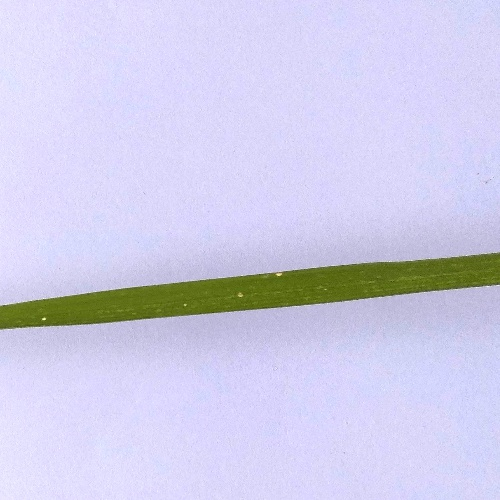Busuk Leher: (269, 263, 290, 287), (232, 285, 249, 303), (38, 309, 52, 328)
